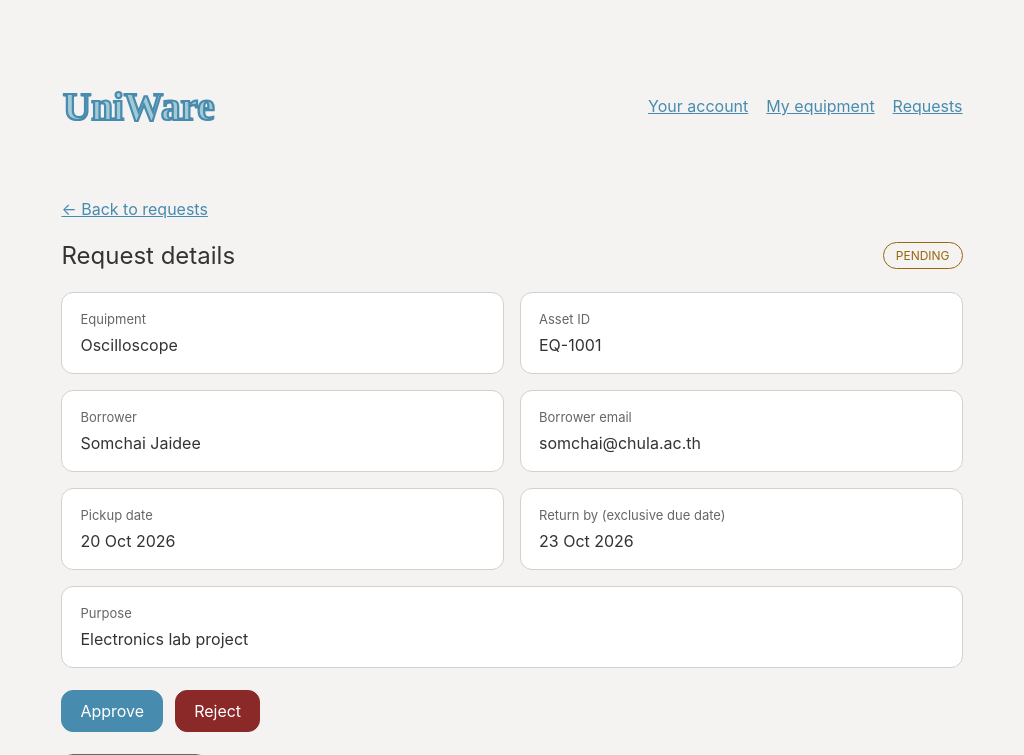
it: US5-2 / US5-3 / US5-4 provider decisions › requires a nonblank reason and sends it to the backend when rejecting
Expected: the text "Electronics lab project" is shown, [80,629,248,649]
Click the button "Reject" at point(218, 711), box [175,690,260,732]
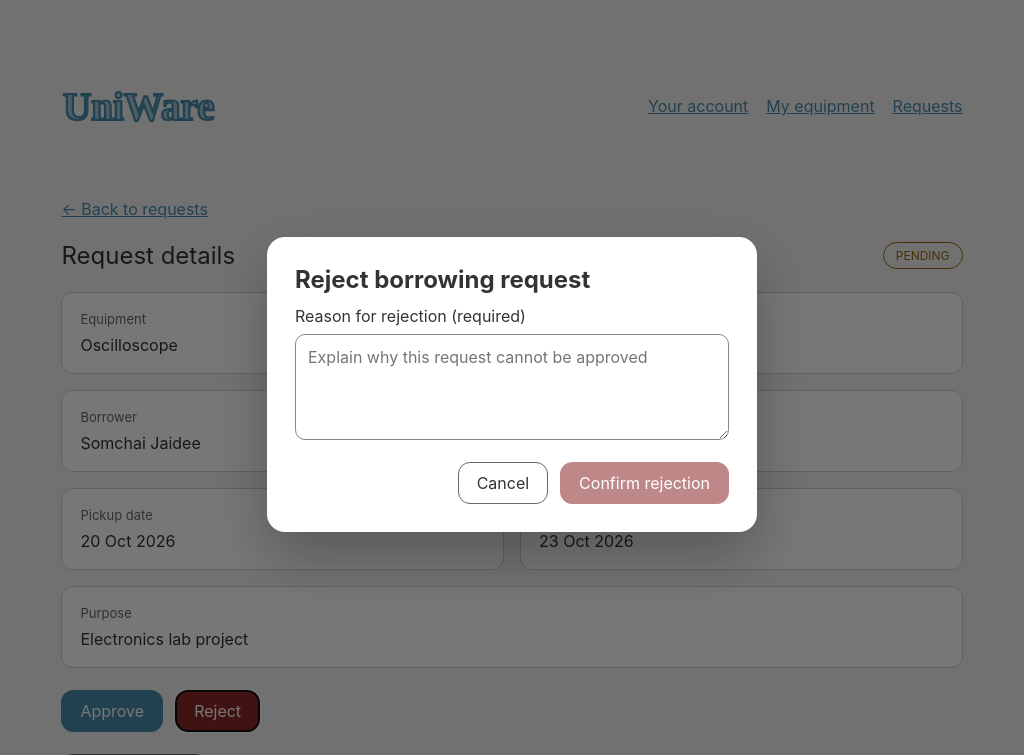
Expected: the button "Confirm rejection" is disabled, [560,462,729,504]
Type "  Maintenance  " into the text box labelled "Reason for rejection (required)" at point(512, 386), box [295,334,729,440]
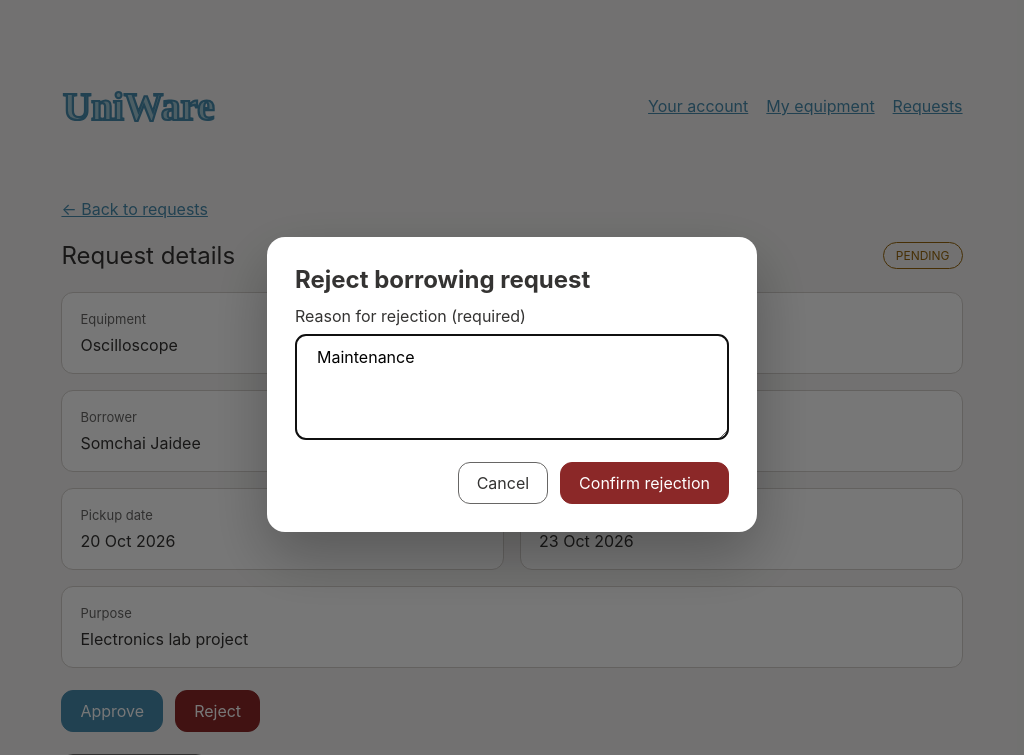
Click the button "Confirm rejection" at point(645, 482), box [560,462,729,504]
(page scrolled)
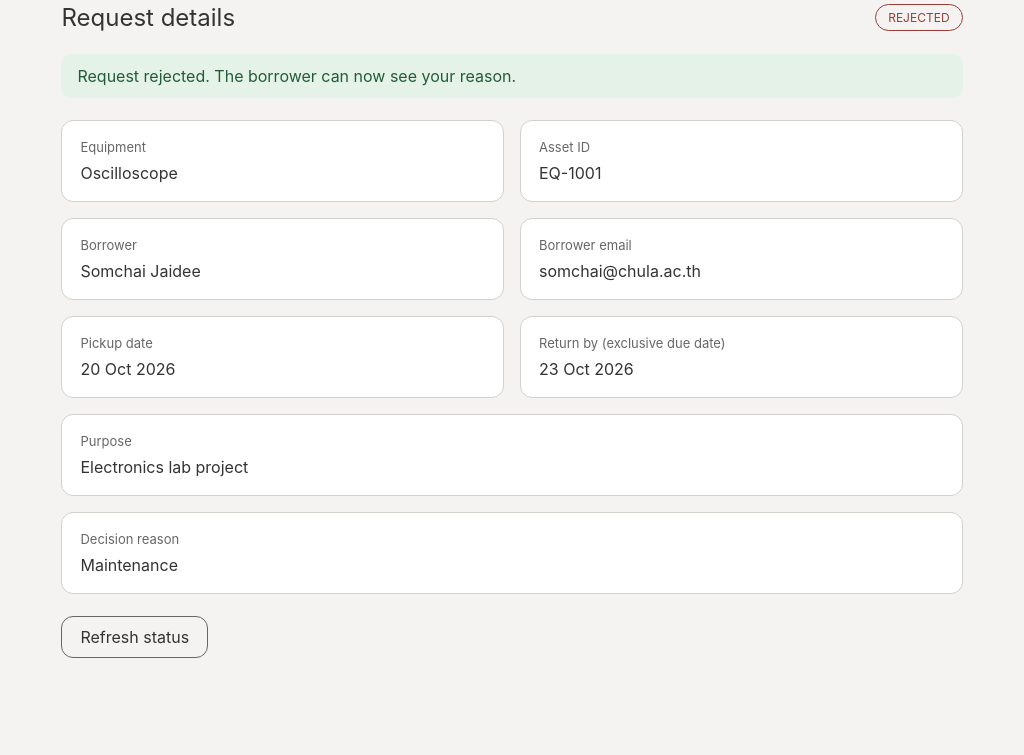
Expected: the text "REJECTED" is shown, [875,4,963,31]
Expected: the text "Maintenance" is shown, [80,555,178,575]
